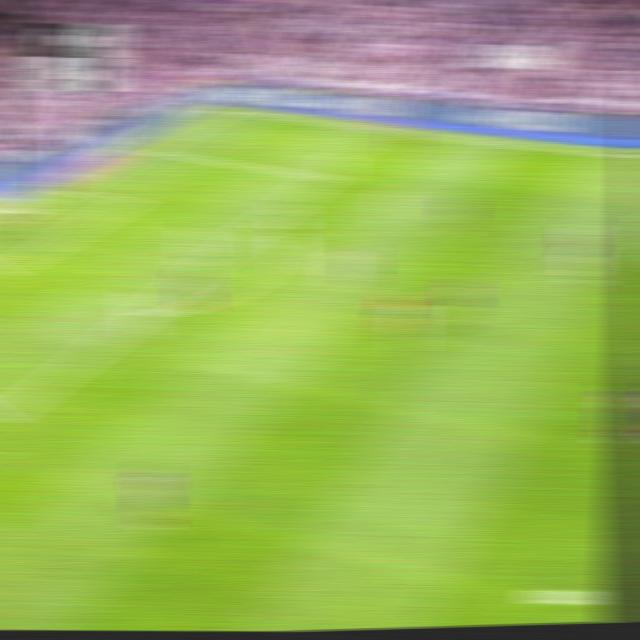bigarea_bottom_inner: (0, 407, 13, 433)
bigarea_top_inner: (311, 169, 334, 183)
bigarea_top_outter: (136, 143, 159, 154)
corner: (210, 105, 236, 113)
smallarea_top_inner: (116, 194, 141, 206)
top_arc_area_intersection: (240, 222, 267, 238)
